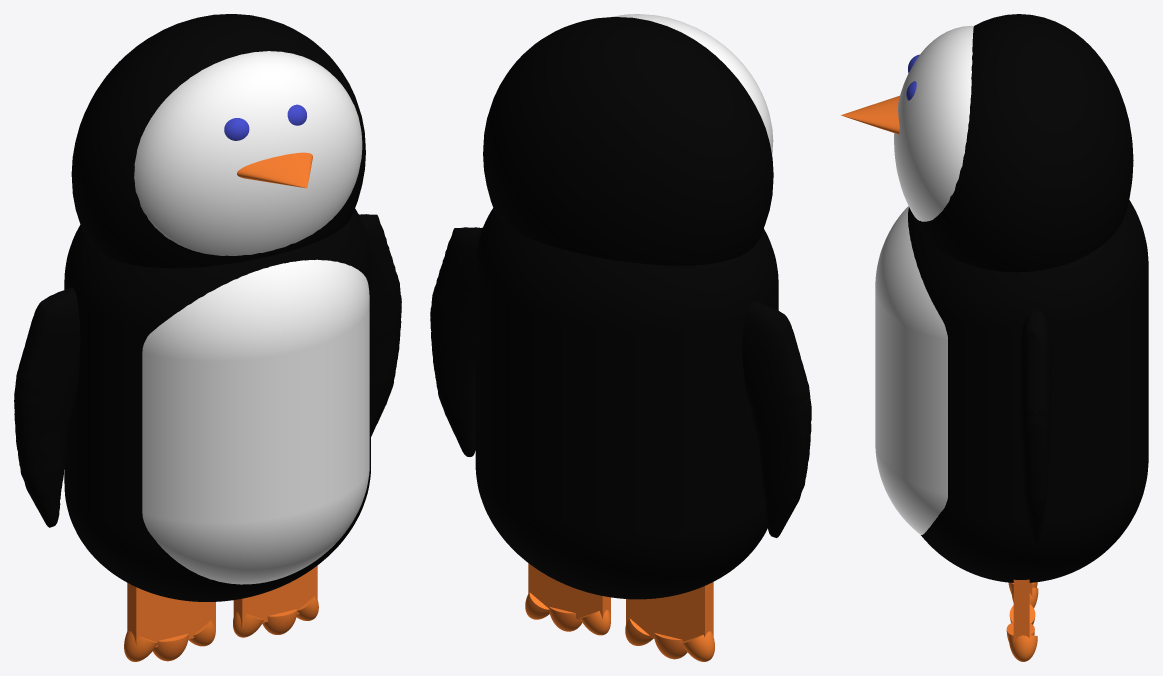
Rendered from Penguin 3.0.fbx.
3 views of the same model, side by side, from view 1: azimuth 30°, elevation 25°; view 2: azimuth 150°, elevation 25°; view 3: azimuth 270°, elevation 25° (orthographic). The views are drawn at different scales.
Visible parts, largest first — view 1: node_id180 (×3), node_id127 (×2), node_id160 (×2), node_id120 (×3), node_id110 (×2); view 2: node_id127 (×2), node_id160 (×2), node_id120 (×3), node_id180, node_id110; view 3: node_id127 (×2), node_id180 (×3), node_id160, node_id110 (×2).
Boxes of the visible parts, x1,y1,x2,y2 form: node_id180 (×3): (134,51,369,584); node_id127 (×2): (64,14,370,601); node_id160 (×2): (14,214,401,527); node_id120 (×3): (124,583,215,661); node_id110 (×2): (233,565,317,634); node_id127 (×2): (475,17,778,599); node_id160 (×2): (430,227,811,537); node_id120 (×3): (626,582,714,661); node_id180: (612,14,773,154); node_id110: (528,563,610,619); node_id127 (×2): (908,14,1148,582); node_id180 (×3): (841,25,973,534); node_id160: (1020,310,1051,543); node_id110 (×2): (1008,579,1037,661).
Size of the model in its own units: 0.1224 by 0.191 by 0.0895.
Materials: 15 (9 with a texture image).
